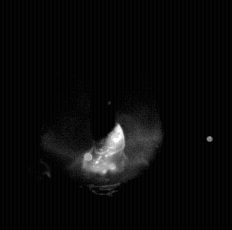arame: (93, 0, 119, 149)
poca: (40, 0, 162, 230)
